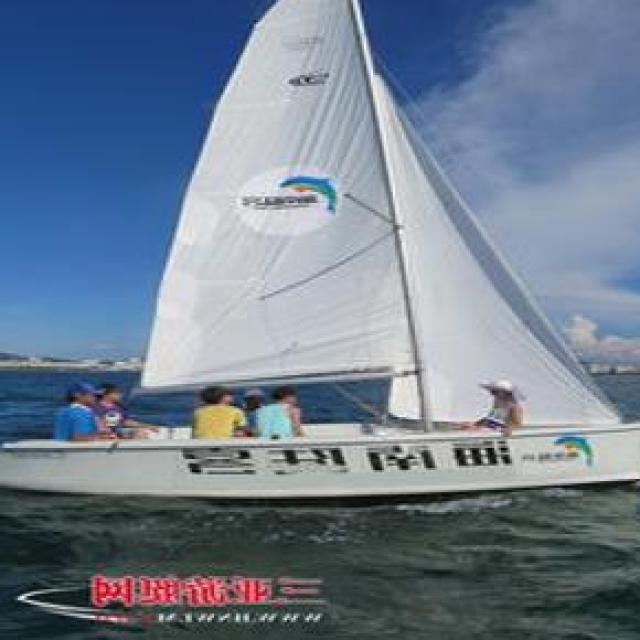sailboat: (0, 0, 640, 492)
